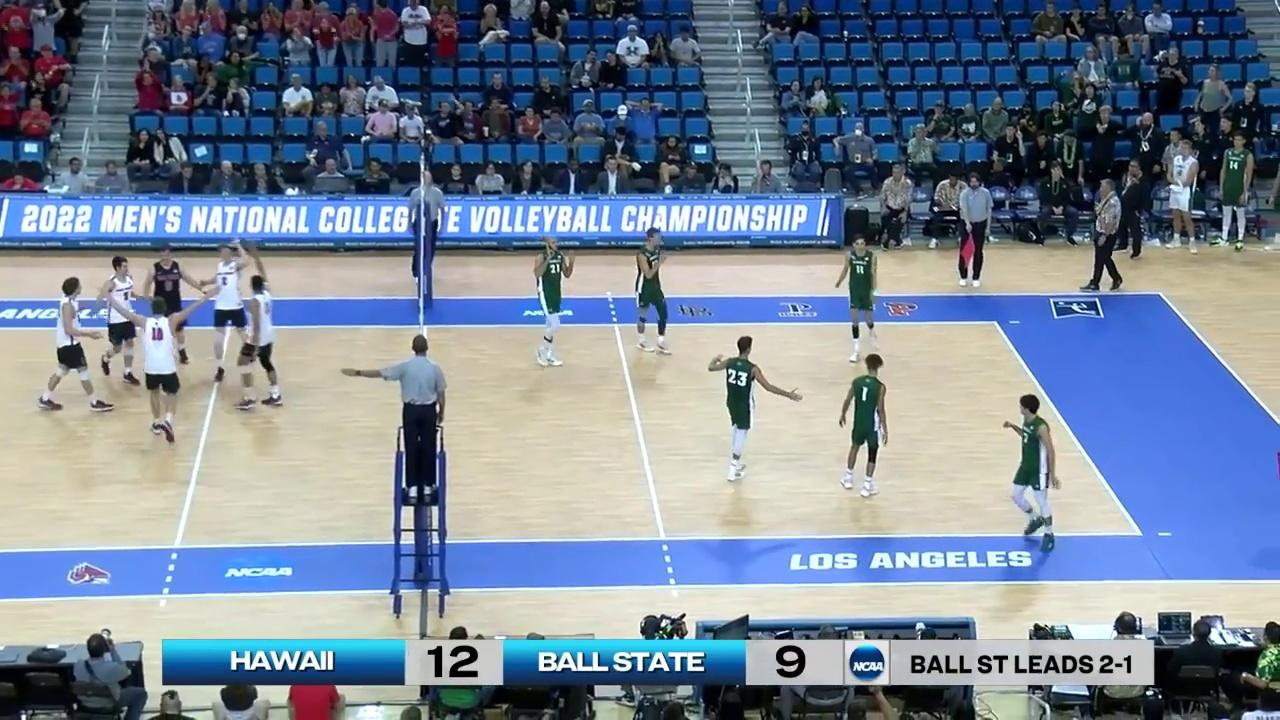player: (708, 337, 777, 481), (36, 278, 110, 411), (1002, 395, 1062, 551), (133, 298, 190, 447), (199, 240, 258, 381), (837, 356, 890, 497), (232, 274, 284, 406), (100, 256, 148, 384), (143, 245, 193, 365), (530, 238, 576, 368), (838, 238, 880, 364), (633, 228, 673, 355)
refree: (390, 334, 449, 502), (955, 174, 991, 288), (409, 171, 443, 286)
